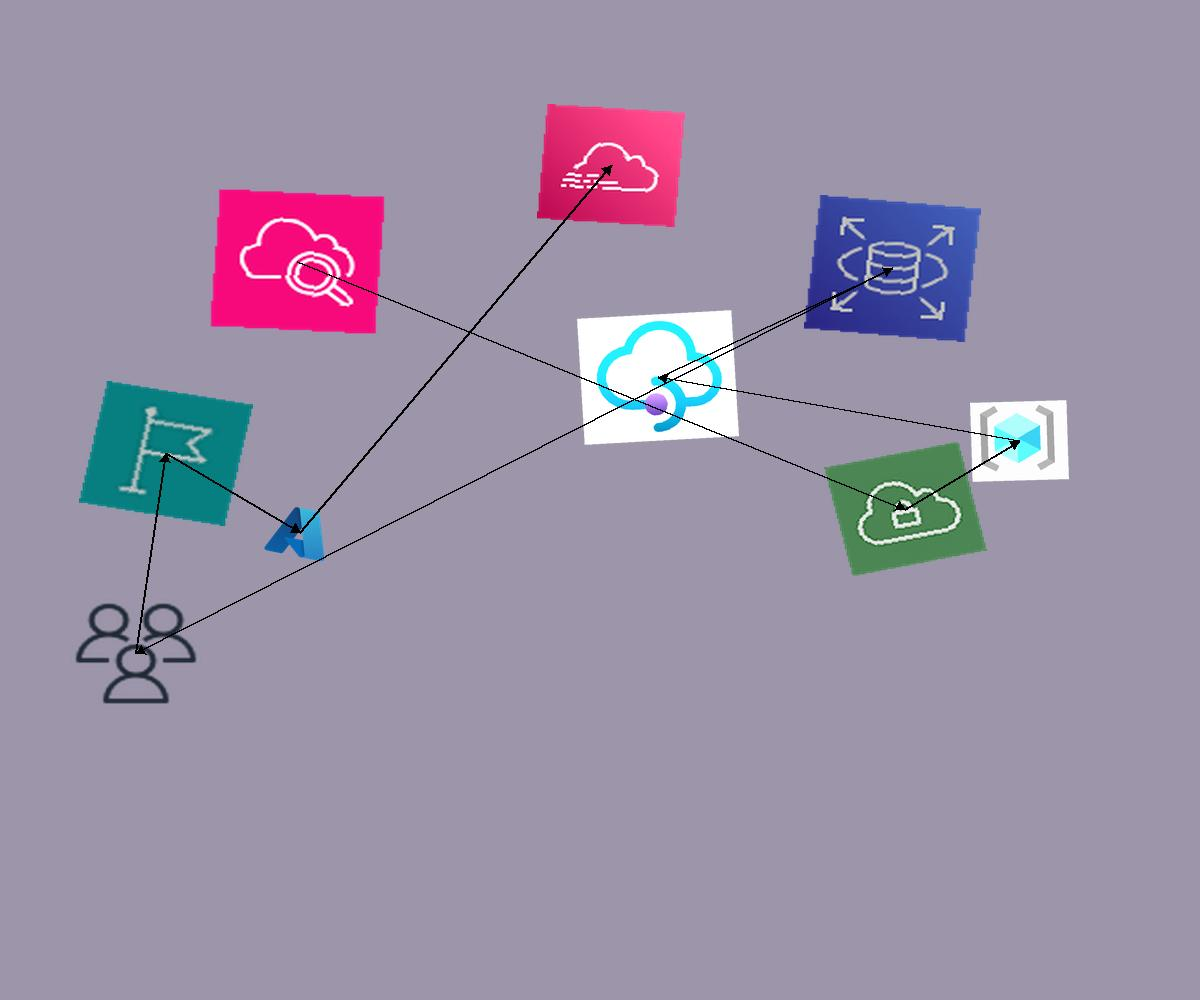AWS-CloudTrail: (537, 104, 685, 227)
AWS-CloudWatch: (209, 188, 386, 335)
AWS-Private_vpc: (824, 441, 987, 577)
AWS-RDS: (804, 195, 981, 342)
AWS-Region: (79, 381, 253, 526)
AWS-Res_Users: (68, 597, 204, 710)
Azure_api_gateway: (577, 310, 739, 445)
Azure_resource_group: (970, 400, 1069, 482)
Azure_services: (260, 499, 341, 566)
